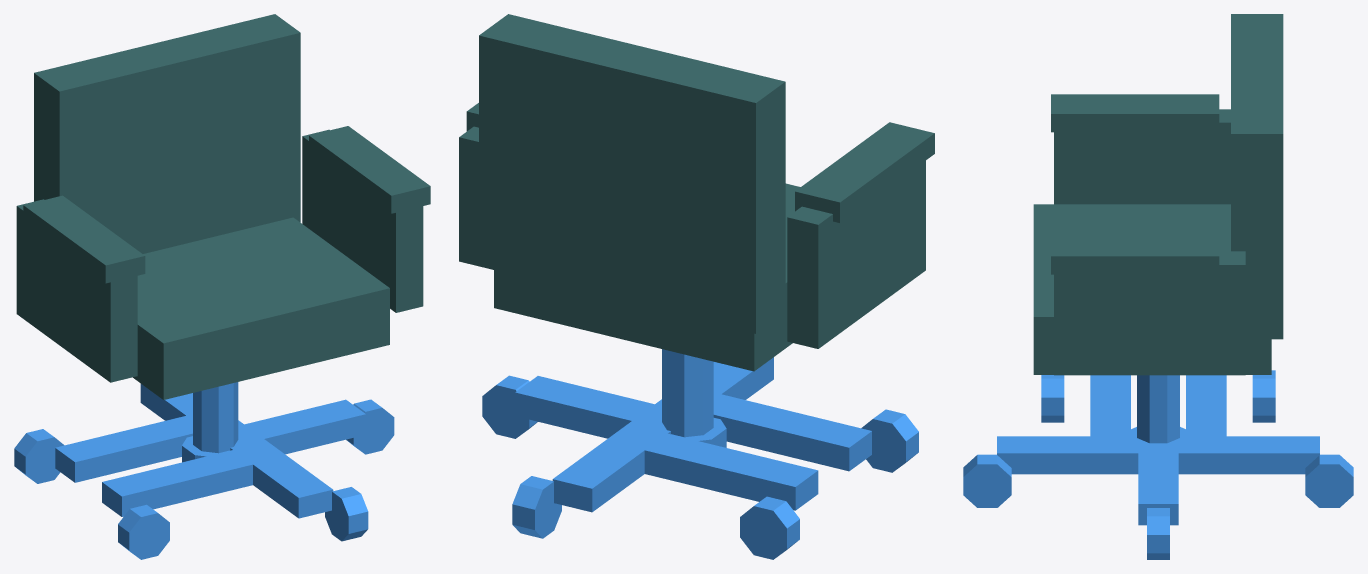
The model's file is chair.obj.
The picture shows the model from 3 angles, left to right: view 1: azimuth 30°, elevation 25°; view 2: azimuth 150°, elevation 25°; view 3: azimuth 270°, elevation 25°; orthographic projection. The views are drawn at different scales.
Visible parts, largest first — view 1: soft_back_cushion, rounded_seat_cushion, left_arm, right_arm, star_base_spoke_3, left_arm_pad, right_arm_pad, star_base_spoke_4, star_base_spoke_1, star_base_spoke_2, center_lift, tiny_castor_3 (+4 smaller); view 2: soft_back_cushion, left_arm, rounded_seat_cushion, star_base_spoke_4, left_arm_pad, star_base_spoke_3, star_base_spoke_1, star_base_spoke_5, center_lift, tiny_castor_4, right_arm, tiny_castor_3 (+4 smaller); view 3: right_arm, soft_back_cushion, left_arm, rounded_seat_cushion, left_arm_pad, right_arm_pad, star_base_spoke_5, star_base_spoke_2, star_base_spoke_1, center_lift, star_base_spoke_3, star_base_spoke_4 (+5 smaller).
Part boxes in pixels (box(x1,y1,x2,y2)): soft_back_cushion: box(34, 14, 300, 253); rounded_seat_cushion: box(133, 217, 389, 399); left_arm: box(16, 199, 137, 382); right_arm: box(302, 129, 423, 312); star_base_spoke_3: box(102, 447, 262, 516); left_arm_pad: box(23, 195, 145, 283); right_arm_pad: box(309, 126, 430, 213); star_base_spoke_4: box(55, 414, 192, 482); star_base_spoke_1: box(234, 399, 365, 454); star_base_spoke_2: box(230, 437, 333, 518); center_lift: box(193, 382, 238, 453); tiny_castor_3: box(118, 504, 169, 559); soft_back_cushion: box(479, 14, 785, 333); left_arm: box(787, 160, 925, 348); rounded_seat_cushion: box(494, 183, 800, 371); star_base_spoke_4: box(632, 430, 818, 510); left_arm_pad: box(795, 122, 934, 222); star_base_spoke_3: box(713, 393, 871, 471); star_base_spoke_1: box(515, 376, 663, 438); star_base_spoke_5: box(552, 421, 670, 512); center_lift: box(662, 349, 713, 437); tiny_castor_4: box(740, 496, 799, 559); right_arm: box(459, 126, 478, 266); tiny_castor_3: box(861, 409, 918, 472); right_arm: box(1054, 251, 1245, 375); soft_back_cushion: box(1231, 14, 1283, 339); left_arm: box(1054, 109, 1230, 204); rounded_seat_cushion: box(1033, 204, 1271, 374); left_arm_pad: box(1051, 94, 1219, 132); right_arm_pad: box(1051, 236, 1219, 274); star_base_spoke_5: box(1153, 436, 1319, 474); star_base_spoke_2: box(997, 436, 1163, 474); star_base_spoke_1: box(1138, 438, 1178, 525); center_lift: box(1137, 375, 1179, 443); star_base_spoke_3: box(1090, 375, 1130, 436); star_base_spoke_4: box(1186, 375, 1226, 436).
Bounding box in the file's own units: 1.36 × 1.54 × 1.35.
